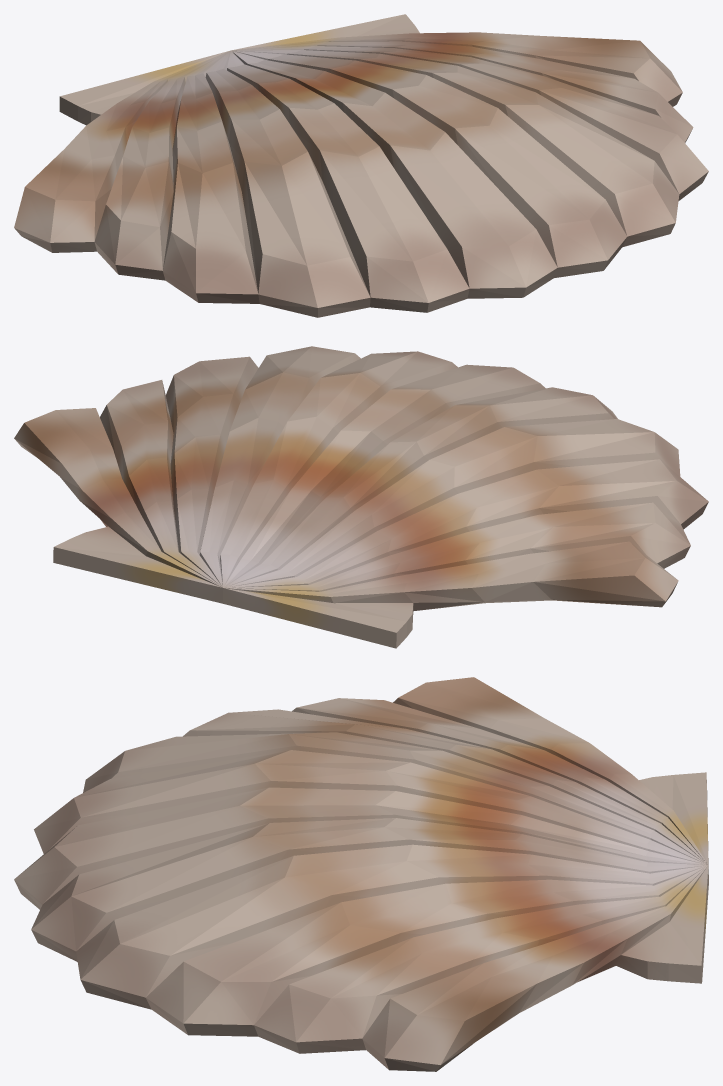
The model's file is shell-flat.glb.
3 views of the same model, one above another, from view 1: azimuth 30°, elevation 25°; view 2: azimuth 150°, elevation 25°; view 3: azimuth 270°, elevation 25° (orthographic). The views are drawn at different scales.
Visible parts, largest first — view 1: Node; view 2: Node; view 3: Node.
Boxes of the visible parts, x1,y1,x2,y2 form: Node: (14, 14, 708, 317); Node: (14, 346, 708, 648); Node: (14, 677, 708, 1071).
Bounding box in the file's own units: 2.98 × 0.3656 × 2.38.
1 material, 1 textured.
